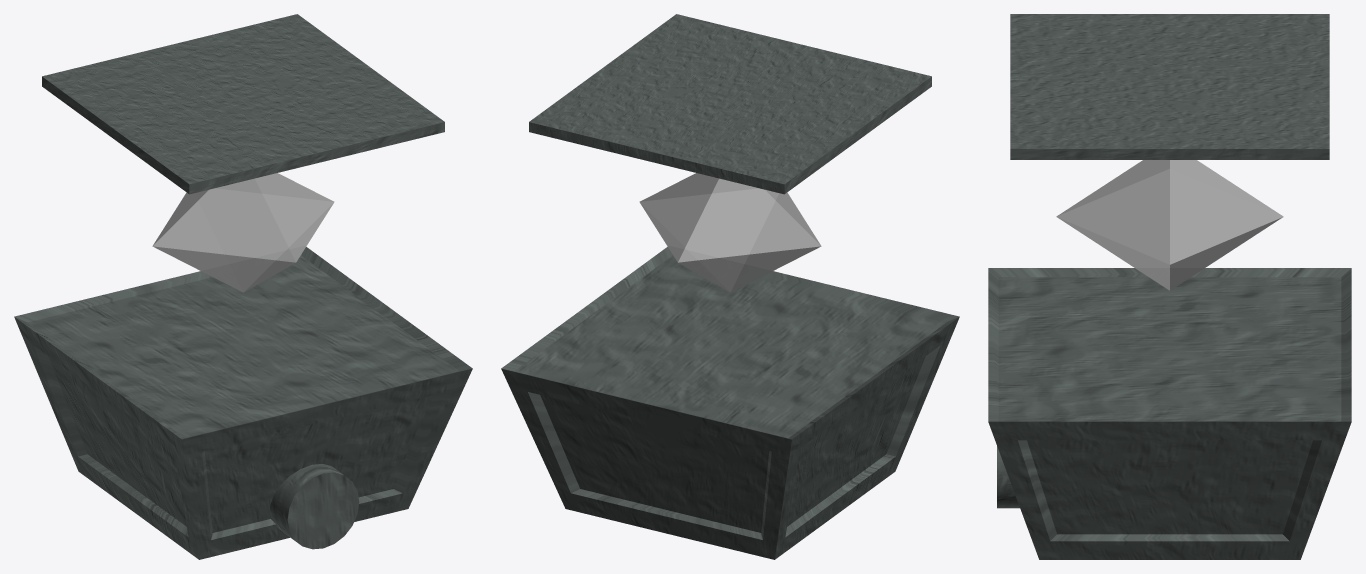
Rendered from Electrical_equipment_off01.fbx.
3 views of the same model, side by side, from view 1: azimuth 30°, elevation 25°; view 2: azimuth 150°, elevation 25°; view 3: azimuth 270°, elevation 25° (orthographic). The views are drawn at different scales.
Visible parts, largest first — view 1: pCube3, pCone6, pCone3, pCylinder4; view 2: pCube3, pCone6, pCone3; view 3: pCube3, pCone6, pCone3, pCylinder4.
Part boxes in pixels (left/top/right/bottom): pCube3: left=14, top=247, right=472, bottom=559; pCone6: left=42, top=14, right=444, bottom=194; pCone3: left=152, top=173, right=334, bottom=292; pCylinder4: left=269, top=463, right=359, bottom=549; pCube3: left=501, top=247, right=959, bottom=559; pCone6: left=529, top=14, right=931, bottom=194; pCone3: left=639, top=173, right=821, bottom=292; pCube3: left=988, top=268, right=1351, bottom=559; pCone6: left=1010, top=14, right=1329, bottom=159; pCone3: left=1056, top=160, right=1283, bottom=290; pCylinder4: left=997, top=446, right=1019, bottom=508.
Size of the model in its own units: 12.18 by 15.64 by 12.18.
4 materials, 3 textured.
